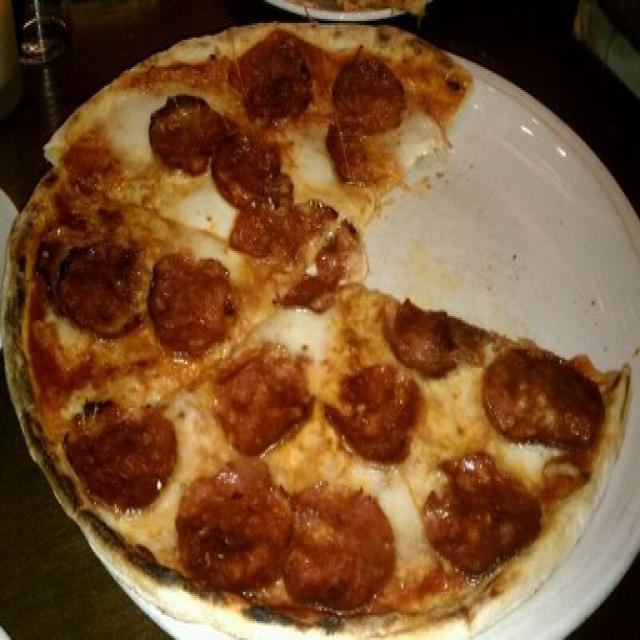Cheese: (178, 185, 224, 250), (397, 111, 435, 172), (265, 308, 323, 347), (112, 94, 146, 154), (290, 138, 323, 185)
Pepperoni: (422, 450, 526, 567), (484, 342, 596, 449), (183, 475, 286, 586), (75, 402, 178, 510), (295, 487, 393, 599), (224, 352, 310, 455), (59, 240, 148, 338), (342, 362, 413, 470), (393, 296, 477, 382), (154, 256, 237, 342), (239, 42, 302, 114), (335, 58, 399, 128), (236, 208, 320, 253), (149, 105, 217, 159), (218, 138, 274, 194), (328, 131, 379, 186)
Pizza: (4, 23, 629, 632)
